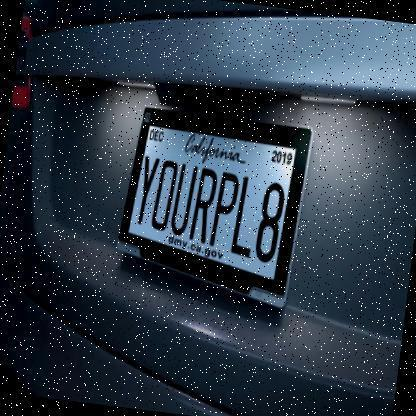License-Plate: (112, 98, 315, 311)
